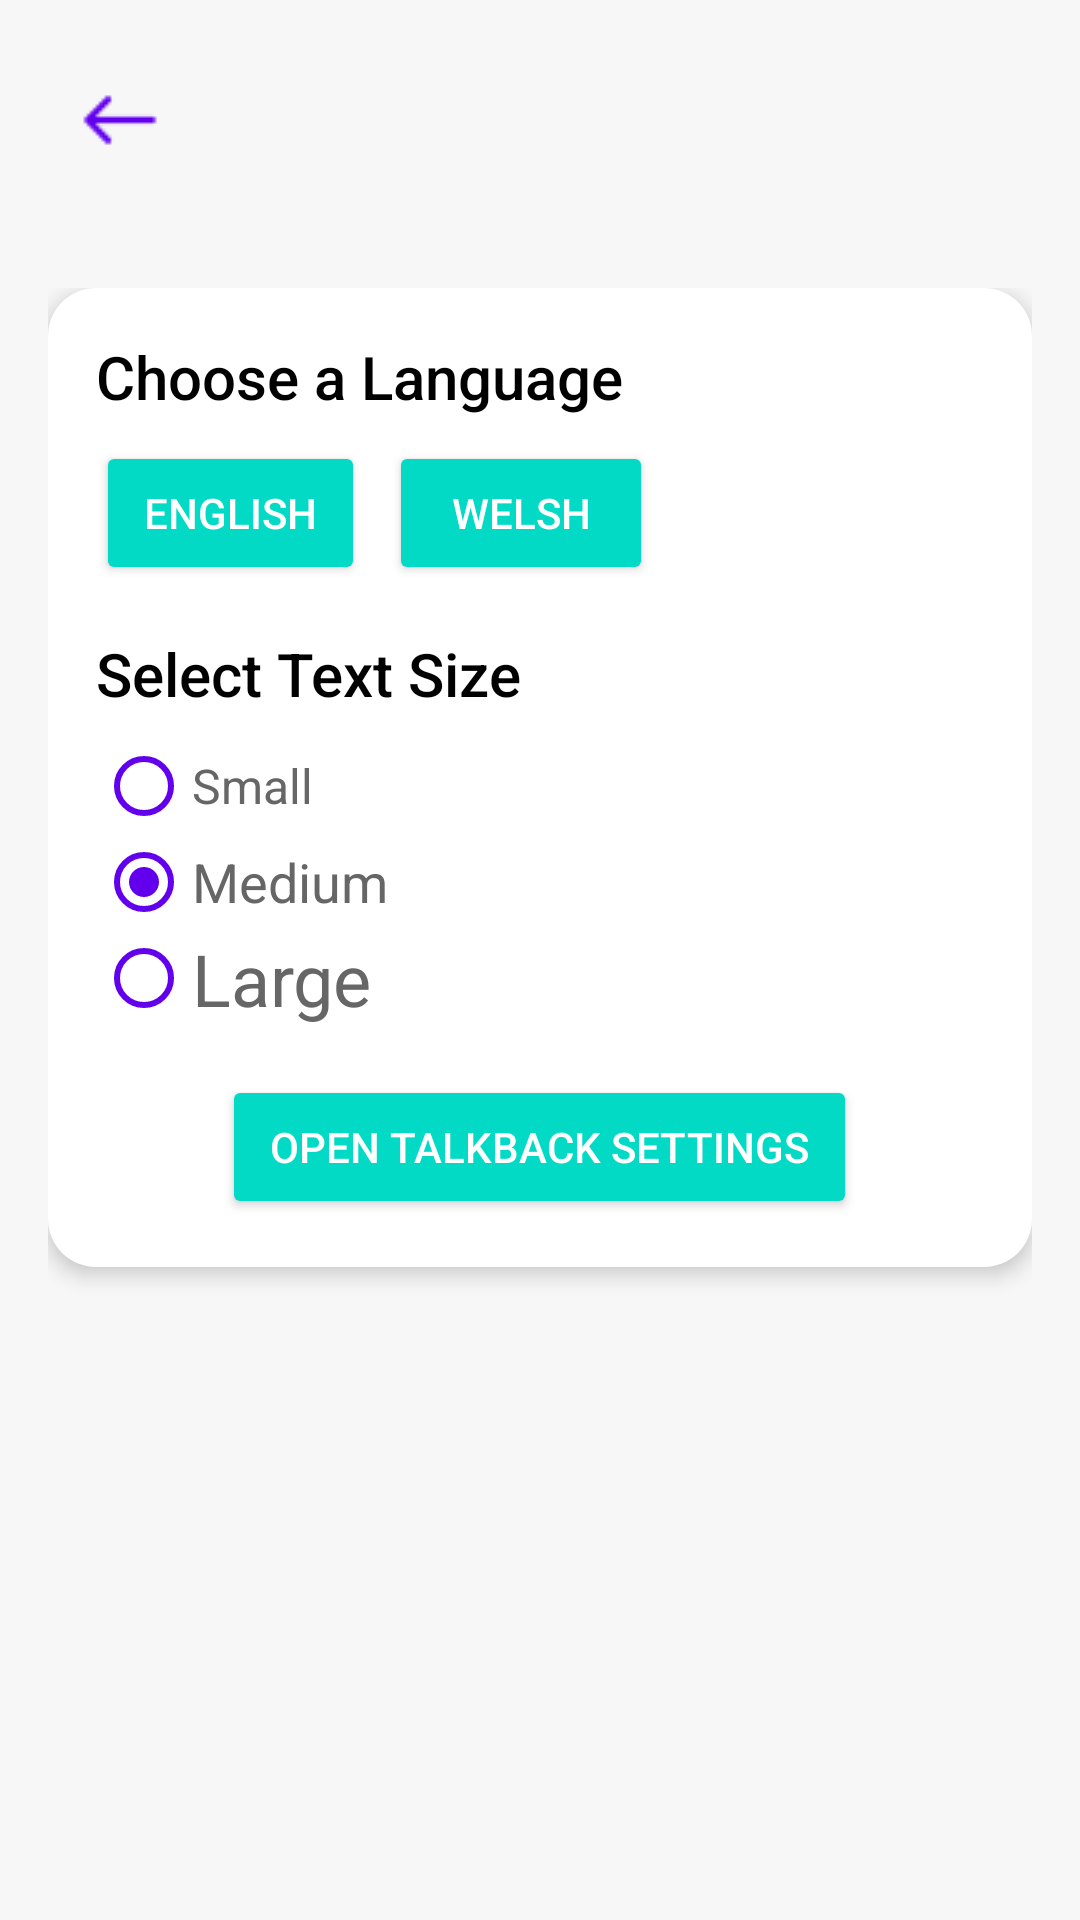

Where icons sit on this 1080×1920 app screen, as (x1, y1, x2, y2):
Back: (83, 95, 157, 145)
